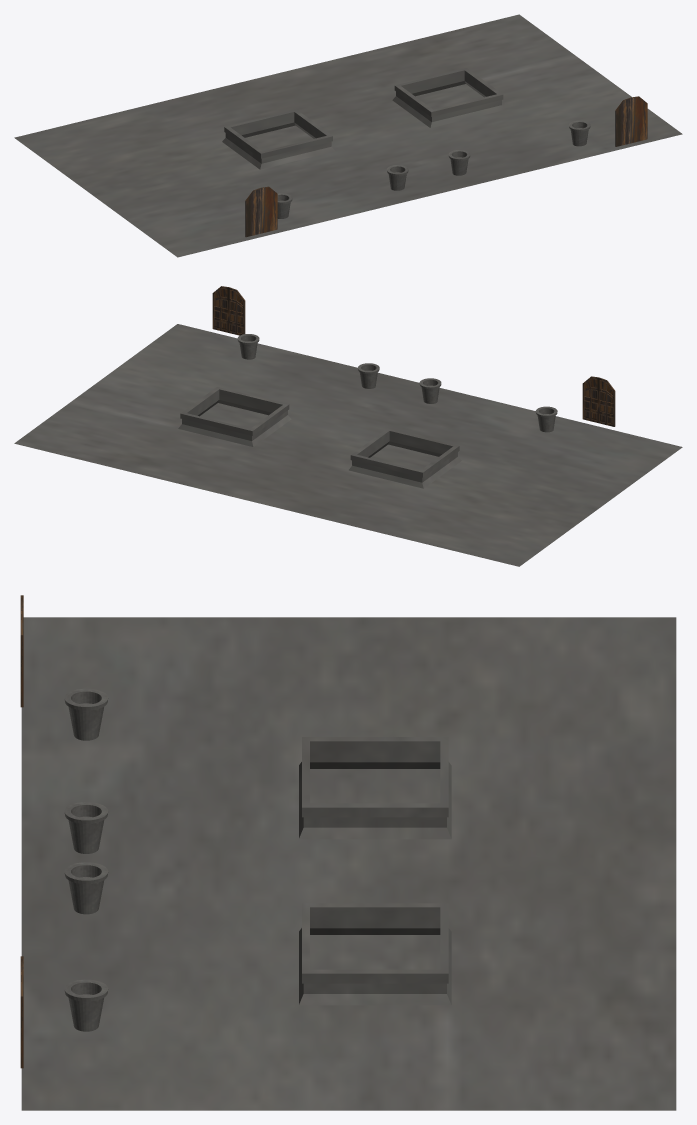
File: 26_04_2020_exterior.fbx
The picture shows the model from 3 angles, top to bottom: view 1: azimuth 30°, elevation 25°; view 2: azimuth 150°, elevation 25°; view 3: azimuth 270°, elevation 25°; orthographic projection. The views are drawn at different scales.
Visible parts, largest first — view 1: Plane.004, Cube.005, Cube.006, Cylinder.002, Cylinder, Cylinder.001; view 2: Plane.004, Cube.006, Cube.005, Cylinder.003, Cylinder.001, Cylinder, Cylinder.002; view 3: Plane.004, Cylinder.002, Cylinder.003, Cylinder, Cylinder.001.
Boxes of the visible parts, x1=… form: Plane.004: x1=14, y1=14, x2=682, y2=257; Cube.005: x1=615, y1=96, x2=647, y2=146; Cube.006: x1=245, y1=186, x2=277, y2=237; Cylinder.002: x1=568, y1=120, x2=590, y2=146; Cylinder: x1=448, y1=150, x2=470, y2=175; Cylinder.001: x1=386, y1=165, x2=408, y2=190; Plane.004: x1=14, y1=324, x2=682, y2=566; Cube.006: x1=582, y1=376, x2=615, y2=426; Cube.005: x1=212, y1=286, x2=245, y2=335; Cylinder.003: x1=535, y1=406, x2=557, y2=432; Cylinder.001: x1=419, y1=378, x2=441, y2=403; Cylinder: x1=358, y1=363, x2=379, y2=388; Cylinder.002: x1=237, y1=334, x2=259, y2=359; Plane.004: x1=21, y1=617, x2=676, y2=1110; Cylinder.002: x1=64, y1=979, x2=108, y2=1031; Cylinder.003: x1=64, y1=688, x2=108, y2=740; Cylinder: x1=64, y1=862, x2=108, y2=914; Cylinder.001: x1=64, y1=802, x2=108, y2=853.
Bounding box in the file's own units: 9378 × 876 × 5268.
